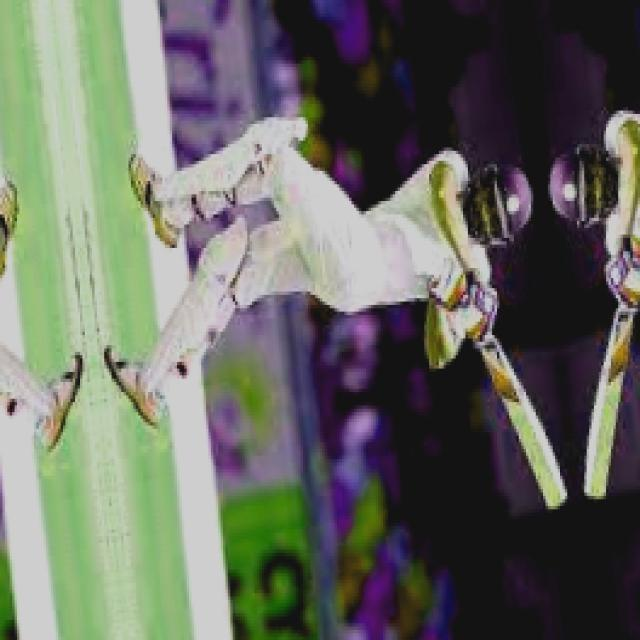toe: (545, 484, 569, 511)
